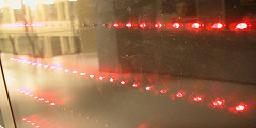LED: (111, 17, 256, 36)
